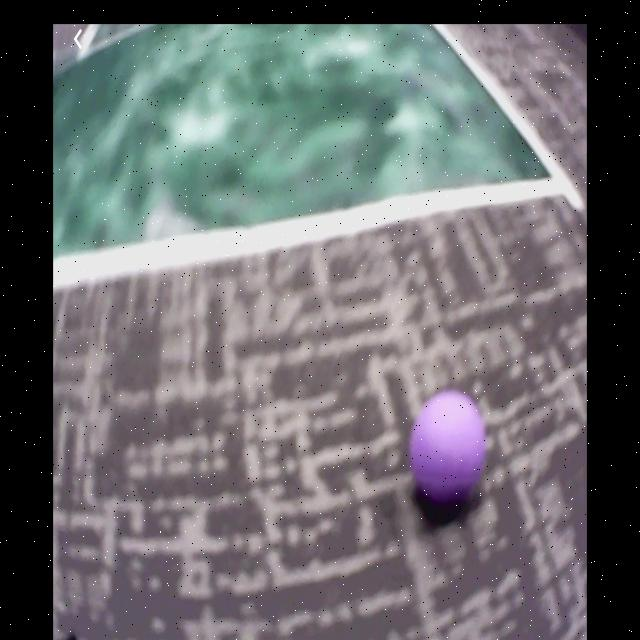ball: (411, 389, 487, 506)
